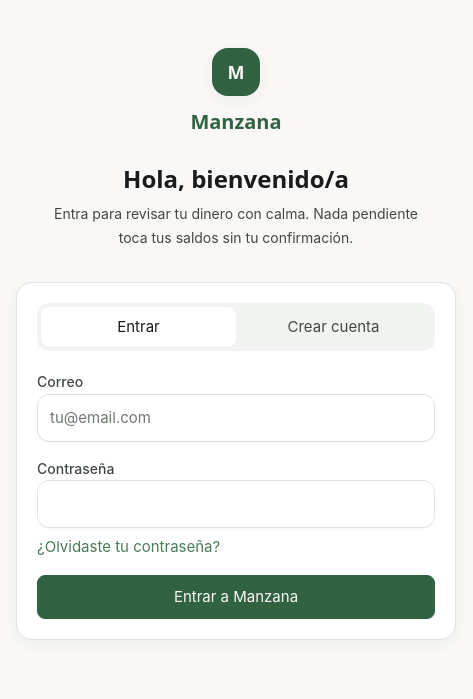
Test case: AuthScreen — AC-AUTH-01/RUL-AUTH-05: nunca propaga el mensaje del proveedor › invalid_credentials en español, sin el texto en inglés del proveedor
Type "marco@ejemplo.com" into the field labelled "Correo". click: (236, 418)
box: [37,394,435,442]
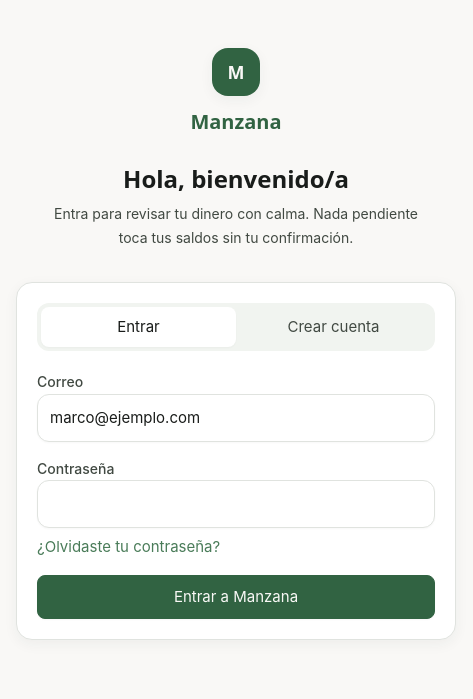
Type "unacontrasenalarga" into the password field labelled "Contraseña". click: (236, 504)
box: [37,480,435,528]
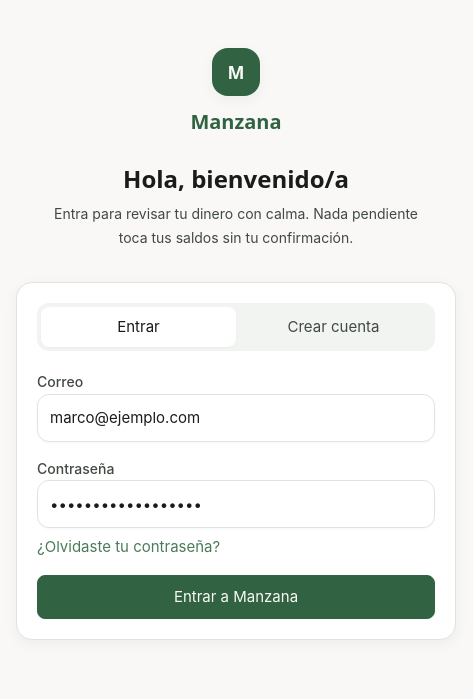
Click the button "Entrar a Manzana". click: click(236, 597)
box: [37,575,435,619]
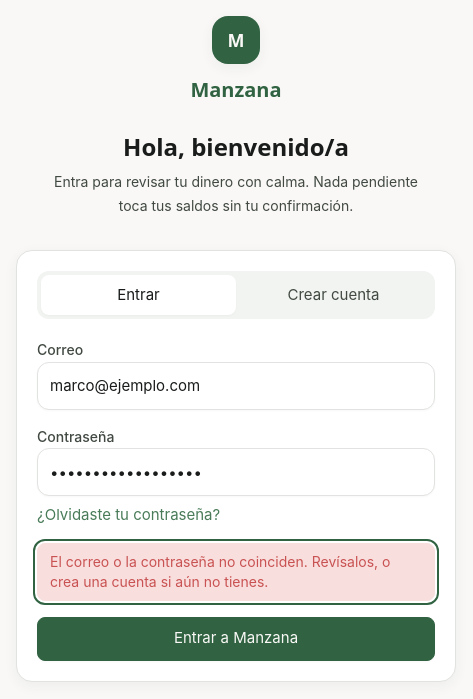
Result: the message shows "El correo o la contraseña no coinciden" at [50,552,390,590]
